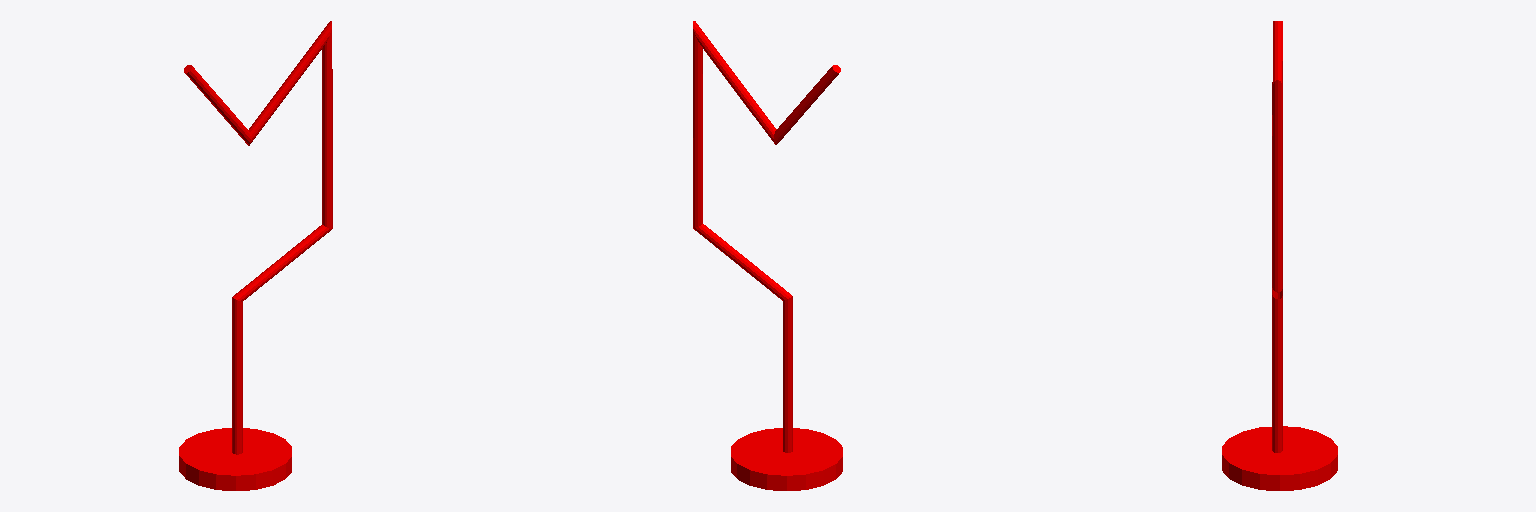
robot.urdf — ring:
<?xml version="0.0" ?>
<robot name="ring">
    <material name="white">
        <color rgba="1 0 0 1"/>
    </material>

    <link name="baseLink">
        <!-- from lego/lego.urdf -->
        <contact>
            <lateral_friction value="1.0"/>
            <rolling_friction value="0.0"/>
            <contact_cfm value="0.0"/>
            <contact_erp value="1.0"/>
        </contact>
        <inertial>
            <origin rpy="0 0 0" xyz="0 0 0"/>
            <mass value="0.01"/>
            <inertia ixx="1" ixy="0" ixz="0" iyy="1" iyz="0" izz="1"/>
        </inertial>
        <visual>
            <origin rpy="1.57 0 0" xyz="0 0 0"/>
            <geometry>
                <!--        radius: 10mm, depth: 14.5mm-->
                <mesh filename="meshes/y.obj" scale="1 1 1"/>
                <!--        <box size="0.002 0.002 0.002"/>-->
            </geometry>
            <material name="white"/>
        </visual>
        <collision>
            <origin rpy="1.57 0 0" xyz="0 0 0"/>
            <geometry>
                <mesh filename="meshes/y_vhacd.obj" scale="1 1 1"/>
                       <!-- <box size="2 2 2"/> -->
            </geometry>
        </collision>
    </link>
</robot>

--- Render facts (derived) ---
The picture shows the robot from 3 angles, left to right: view 1: azimuth 30°, elevation 25°; view 2: azimuth 150°, elevation 25°; view 3: azimuth 270°, elevation 25°; orthographic projection.
Robot: ring — 1 links, 0 joints (none); root link baseLink; default pose: all joints at 0.
Links seen in each view (by area): view 1: baseLink; view 2: baseLink; view 3: baseLink.
Boxes of the visible links, left/top/right/bottom form: baseLink: left=179, top=21, right=332, bottom=490; baseLink: left=693, top=21, right=842, bottom=490; baseLink: left=1222, top=21, right=1337, bottom=490.
Bounding box of the posed robot: 0.0466 × 0.031 × 0.1283 m (x, y, z).
Meshes: 1 distinct files referenced, 1 mesh visuals loaded (1 OBJ).